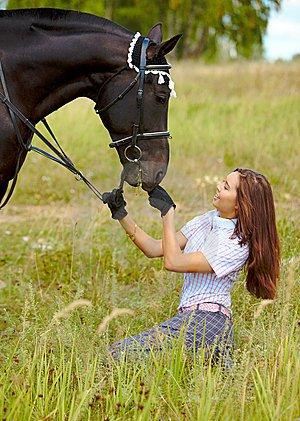person: (105, 166, 279, 372)
